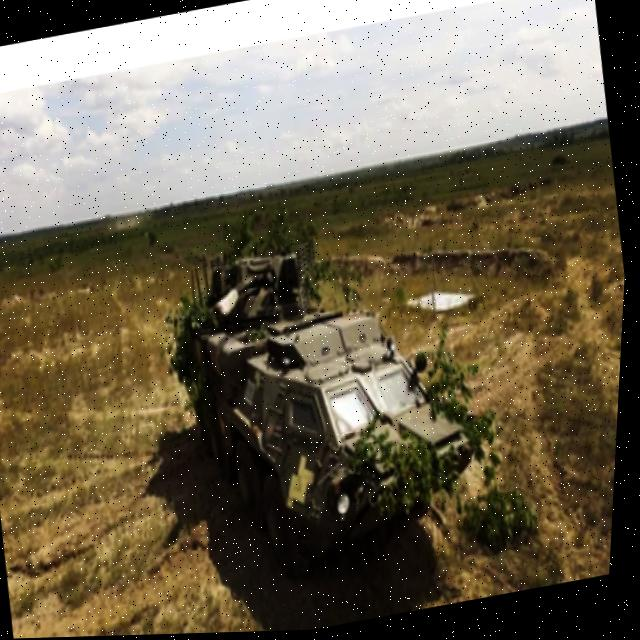MIL_APC: (134, 194, 542, 589)
